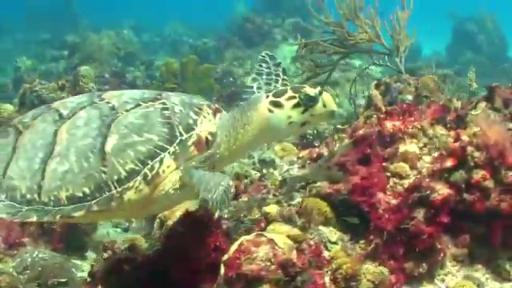Fish: (0, 52, 336, 223)
